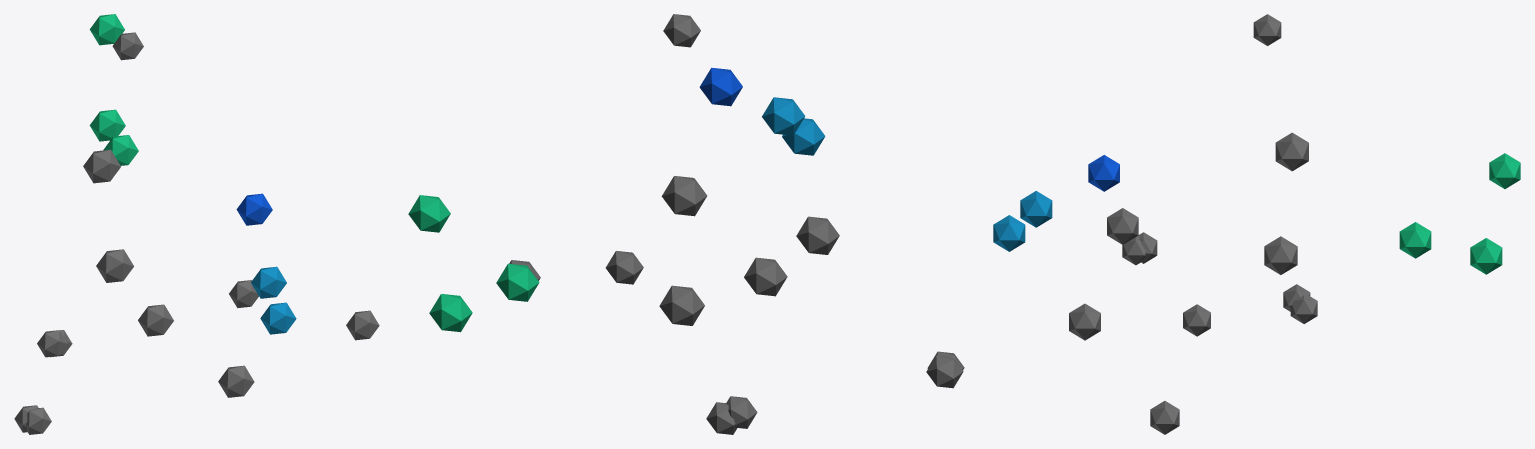
3 renders of one model, left to right at view 1: azimuth 30°, elevation 25°; view 2: azimuth 150°, elevation 25°; view 3: azimuth 270°, elevation 25°, orthographic. The views are drawn at different scales.
Parts seen in each view (by area): view 1: 08_06_00; view 2: 08_06_00; view 3: 08_06_00.
Part boxes in pixels (bbox=[...]): 08_06_00: bbox=[14, 14, 379, 434]; 08_06_00: bbox=[408, 14, 964, 434]; 08_06_00: bbox=[993, 14, 1520, 434].
Bounding box in the file's own units: 0.4819 × 0.403 × 0.5835.
